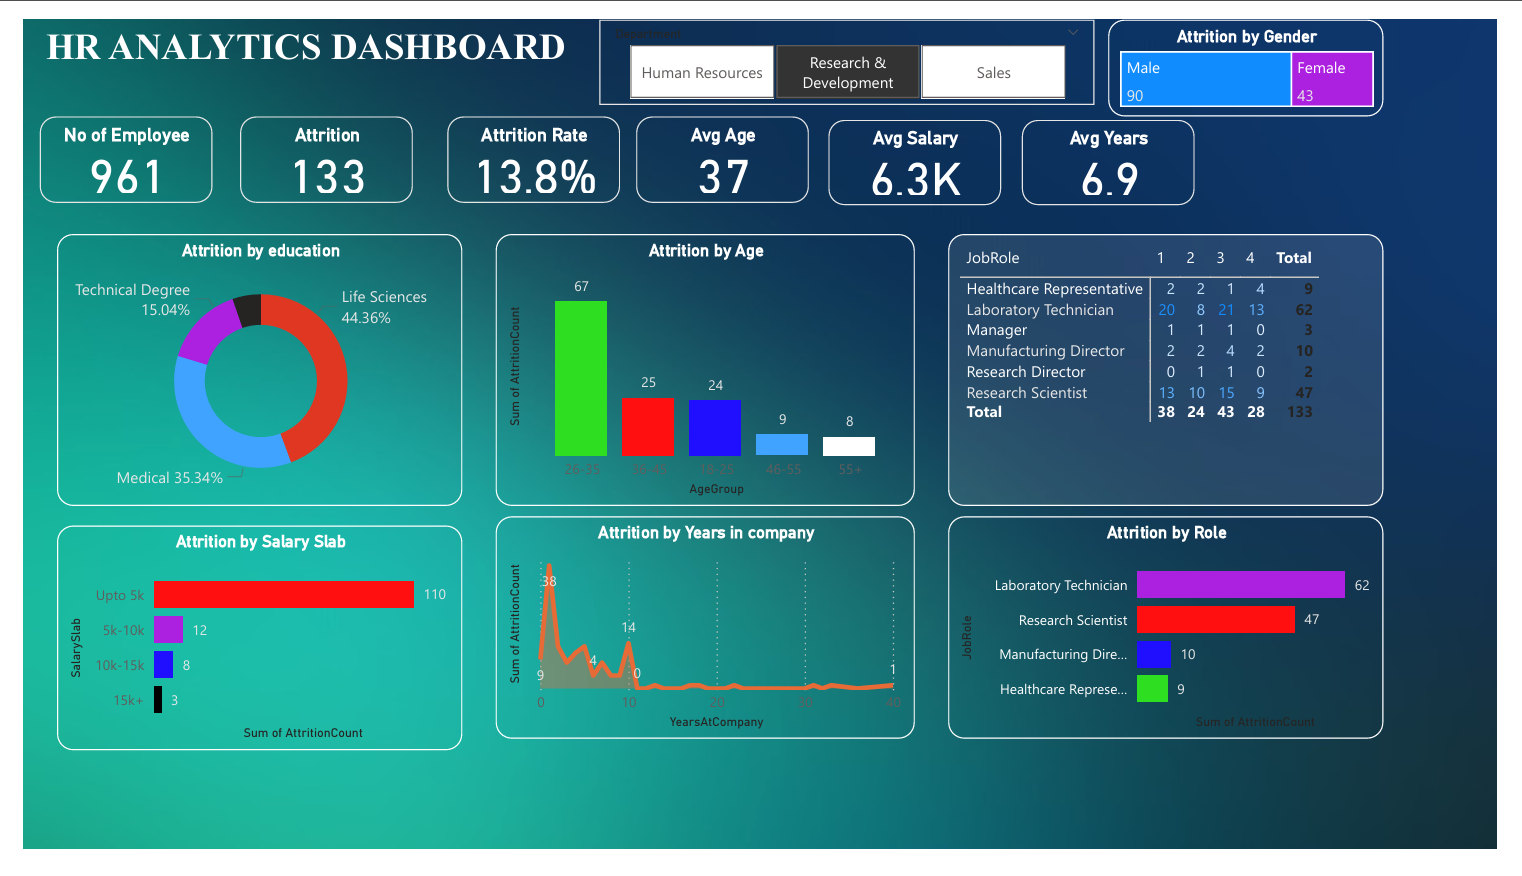

The dashboard page shown, as its layout file describes it:
{"tool":"powerbi","page":{"name":"Page 1","canvas":[1280,720],"ordinal":0},"visuals":[{"type":"card","title":"Avg Age","fields":{"Values":["Avg(HR_Analytics.Age)"]},"box":[532.2,84.4,150,74.4],"z":0},{"type":"card","title":"Attrition Rate","fields":{"Values":["HR_Analytics.AttritionRate"]},"box":[367.8,84.4,150,74.4],"z":1000},{"type":"card","title":"Attrition ","fields":{"Values":["Sum(HR_Analytics.AttritionCount)"]},"box":[187.8,84.4,150,74.4],"z":2000},{"type":"card","title":"No of Employee","fields":{"Values":["CountNonNull(HR_Analytics.EmpID)"]},"box":[14.4,84.4,150,74.4],"z":3000},{"type":"card","title":"Avg Salary","fields":{"Values":["Avg(HR_Analytics.MonthlyIncome)"]},"box":[698.9,86.7,150,74.4],"z":4000},{"type":"card","title":"Avg Years","fields":{"Values":["Avg(HR_Analytics.YearsAtCompany)"]},"box":[866.7,86.7,150,74.4],"z":5000},{"type":"donutChart","title":"Attrition by education","fields":{"Category":["HR_Analytics.EducationField"],"Y":["Sum(HR_Analytics.AttritionCount)"]},"box":[28.9,185.6,352.2,236.7],"z":6000},{"type":"columnChart","title":"Attrition by Age","fields":{"Category":["HR_Analytics.AgeGroup"],"Y":["Sum(HR_Analytics.AttritionCount)"]},"box":[410,185.6,364.4,236.7],"z":7000},{"type":"pivotTable","fields":{"Rows":["HR_Analytics.JobRole"],"Columns":["HR_Analytics.JobSatisfaction"],"Values":["Sum(HR_Analytics.AttritionCount)"]},"box":[803.3,185.6,377.8,236.7],"z":8000},{"type":"barChart","title":"Attrition by Salary Slab","fields":{"Category":["HR_Analytics.SalarySlab"],"Y":["Sum(HR_Analytics.AttritionCount)"]},"box":[28.9,438.9,352.2,195.6],"z":9000},{"type":"barChart","title":"Attrition by Role","fields":{"Category":["HR_Analytics.JobRole"],"Y":["Sum(HR_Analytics.AttritionCount)"]},"box":[803.3,431.1,377.8,193.3],"z":10000},{"type":"areaChart","title":"Attrition by Years in company","fields":{"Category":["HR_Analytics.YearsAtCompany"],"Y":["Sum(HR_Analytics.AttritionCount)"]},"box":[410,431.1,364.4,193.3],"z":11000},{"type":"treemap","title":"Attrition by Gender","fields":{"Group":["HR_Analytics.Gender"],"Values":["Sum(HR_Analytics.AttritionCount)"]},"box":[942.2,0,238.9,84.4],"z":12000},{"type":"slicer","fields":{"Values":["HR_Analytics.Department"]},"box":[500,0,430,74.4],"z":13000},{"type":"textbox","box":[14.4,0,495.6,74.4],"z":14000}]}

Visuals, with their boxes in screenshot pixels (x1, y1, x2, y2), scaled from the page's 1280x720 canvas onto the 1522x876 screenshot:
"Avg Age" card: <box>633,103,811,193</box>
"Attrition Rate" card: <box>437,103,616,193</box>
"Attrition " card: <box>223,103,402,193</box>
"No of Employee" card: <box>17,103,195,193</box>
"Avg Salary" card: <box>831,105,1009,196</box>
"Avg Years" card: <box>1031,105,1209,196</box>
"Attrition by education" donutChart: <box>34,226,453,514</box>
"Attrition by Age" columnChart: <box>488,226,921,514</box>
pivotTable - HR_Analytics.JobRole x HR_Analytics.JobSatisfaction: <box>955,226,1404,514</box>
"Attrition by Salary Slab" barChart: <box>34,534,453,772</box>
"Attrition by Role" barChart: <box>955,525,1404,760</box>
"Attrition by Years in company" areaChart: <box>488,525,921,760</box>
"Attrition by Gender" treemap: <box>1120,0,1404,103</box>
slicer - HR_Analytics.Department: <box>595,0,1106,91</box>
textbox: <box>17,0,606,91</box>
